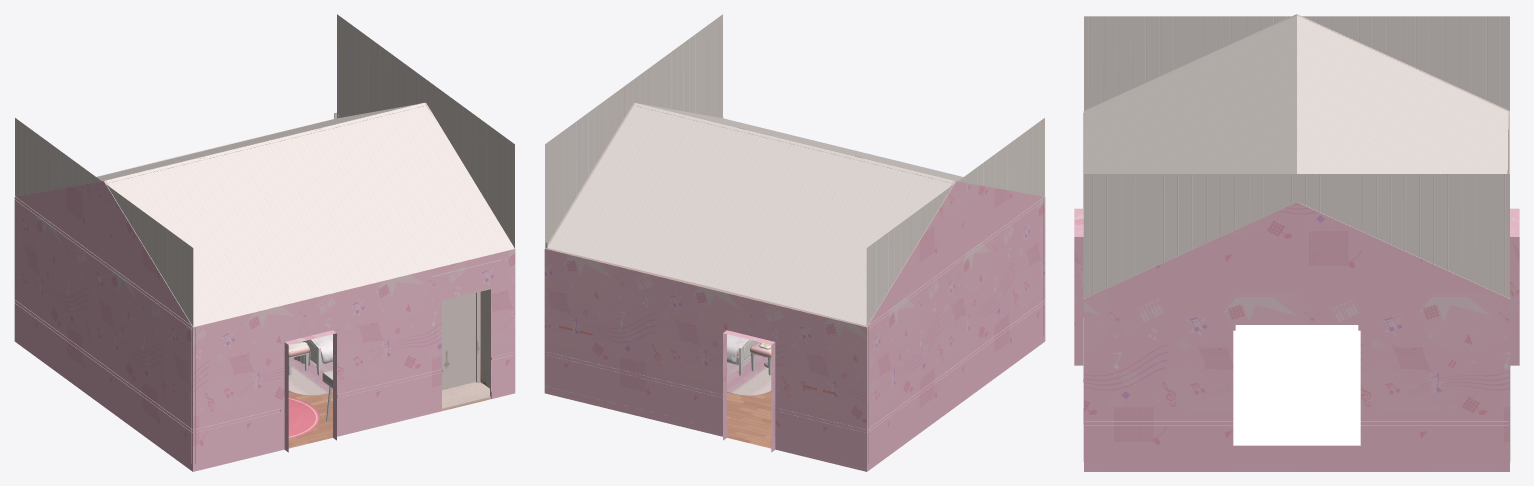
Rendered from room.glb.
The picture shows the model from 3 angles, left to right: view 1: azimuth 30°, elevation 25°; view 2: azimuth 150°, elevation 25°; view 3: azimuth 270°, elevation 25°; orthographic projection. The views are drawn at different scales.
Parts seen in each view (by area): view 1: WallBedroom_BedroomCeiling.001_0, WallBedroom_BedroomWall Cap_0, Bedroom Wardrobe_Bedroom Wardrobe.001_0, WallBedroom_BedroomPlinth.001_0, FloorBedroom_BedroomFloor.001_0, BedRoomCarpet_BedRoomCarpet.001_0, Bedroom Carpet_Bedroom Carpet.001_0, Bed_Bedroom Bed.001_0, Bedroom BedSeat_Bedroom BedSeat.001_0; view 2: WallBedroom_BedroomWall Cap_0, WallBedroom_BedroomCeiling.001_0, WallBedroom_BedroomPlinth.001_0, FloorBedroom_BedroomFloor.001_0, BedRoomCarpet_BedRoomCarpet.001_0, Bed_Bedroom Bed.001_0; view 3: WallBedroom_BedroomCeiling.001_0, WallBedroom_BedroomWall Cap_0, QuadStreet 1_ColorEmission Street_0, WallBedroom_BedroomPlinth.001_0, Windows Bedroom_Windows Bedroom.001_0.
Boxes of the visible parts, x1,y1,x2,y2 form: WallBedroom_BedroomCeiling.001_0: [15, 14, 514, 391]; WallBedroom_BedroomWall Cap_0: [14, 181, 515, 471]; Bedroom Wardrobe_Bedroom Wardrobe.001_0: [431, 259, 502, 409]; WallBedroom_BedroomPlinth.001_0: [15, 102, 514, 463]; FloorBedroom_BedroomFloor.001_0: [288, 391, 490, 448]; BedRoomCarpet_BedRoomCarpet.001_0: [288, 357, 332, 395]; Bedroom Carpet_Bedroom Carpet.001_0: [288, 397, 320, 438]; Bed_Bedroom Bed.001_0: [303, 334, 332, 375]; Bedroom BedSeat_Bedroom BedSeat.001_0: [288, 341, 310, 375]; WallBedroom_BedroomWall Cap_0: [544, 181, 1045, 471]; WallBedroom_BedroomCeiling.001_0: [545, 14, 1044, 327]; WallBedroom_BedroomPlinth.001_0: [545, 102, 1044, 463]; FloorBedroom_BedroomFloor.001_0: [727, 391, 771, 448]; BedRoomCarpet_BedRoomCarpet.001_0: [727, 355, 771, 395]; Bed_Bedroom Bed.001_0: [727, 334, 757, 375]; WallBedroom_BedroomCeiling.001_0: [1084, 14, 1509, 298]; WallBedroom_BedroomWall Cap_0: [1074, 202, 1519, 471]; QuadStreet 1_ColorEmission Street_0: [1233, 330, 1360, 445]; WallBedroom_BedroomPlinth.001_0: [1083, 14, 1510, 462]; Windows Bedroom_Windows Bedroom.001_0: [1235, 325, 1358, 426].
Size of the model in its own units: 22.73 by 15.55 by 20.89.
68 materials, 63 textured.
